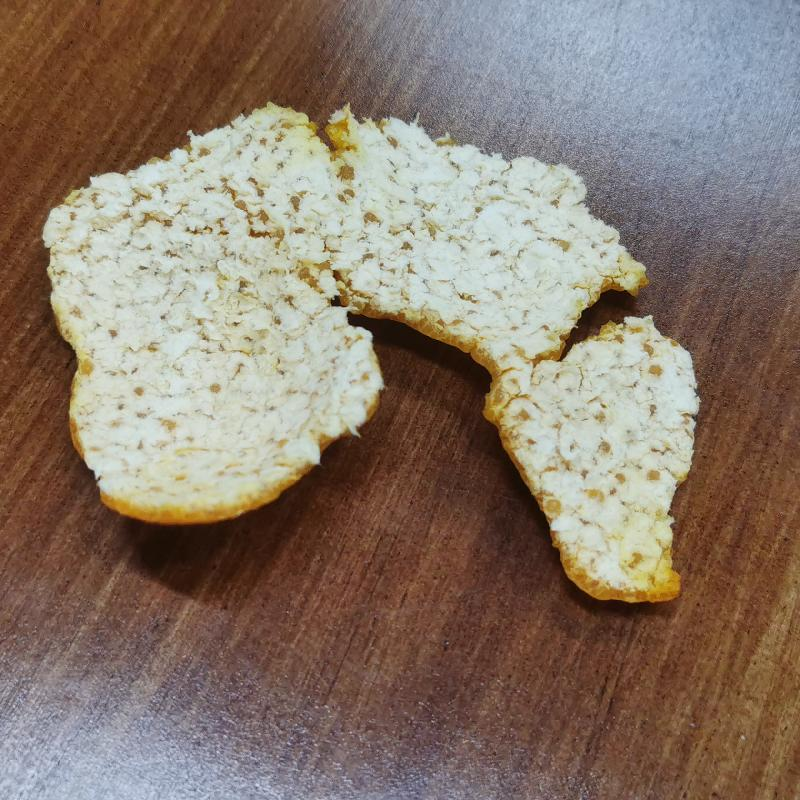orange: (39, 92, 701, 613)
